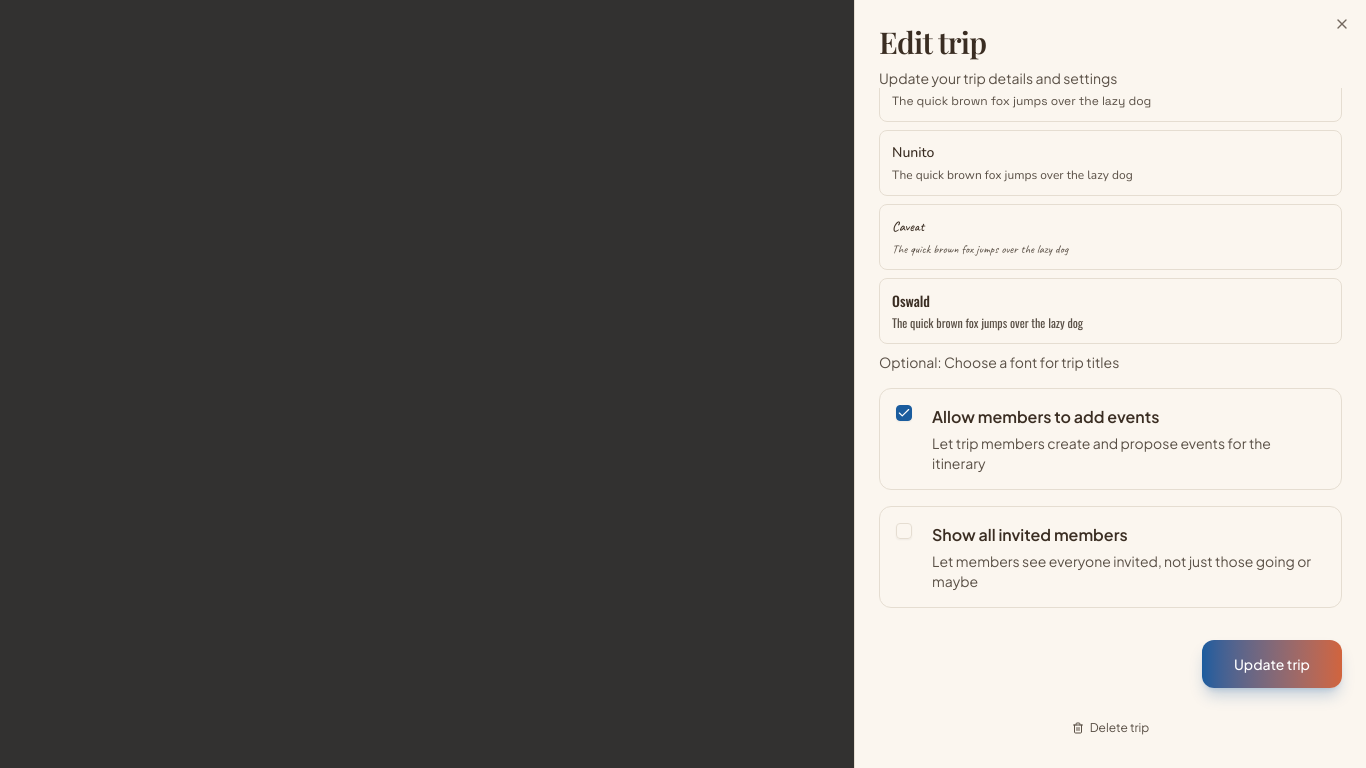
Test: EditTripDialog › Delete confirmation flow › shows confirmation dialog when delete is clicked
(page scrolled)
Click the button "Delete trip": point(1110, 728) left=1072, top=712, right=1149, bottom=744
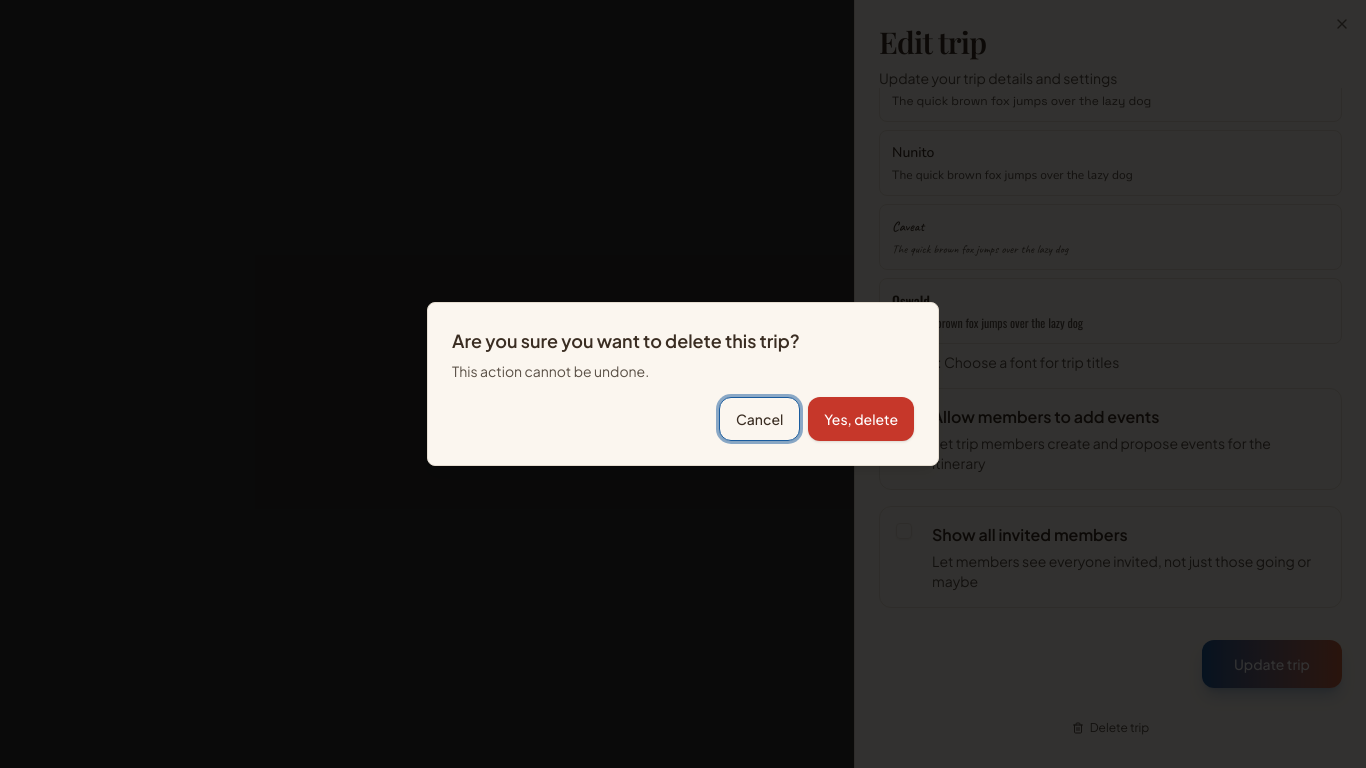
Expected: the heading "Are you sure you want to delete this trip?" is shown, left=452, top=327, right=800, bottom=355
